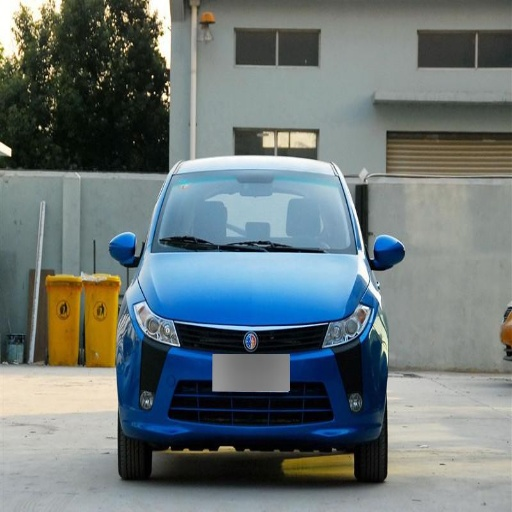front_bumper: (125, 321, 380, 453)
hood: (139, 252, 367, 326)
left_mirror: (368, 235, 405, 271)
